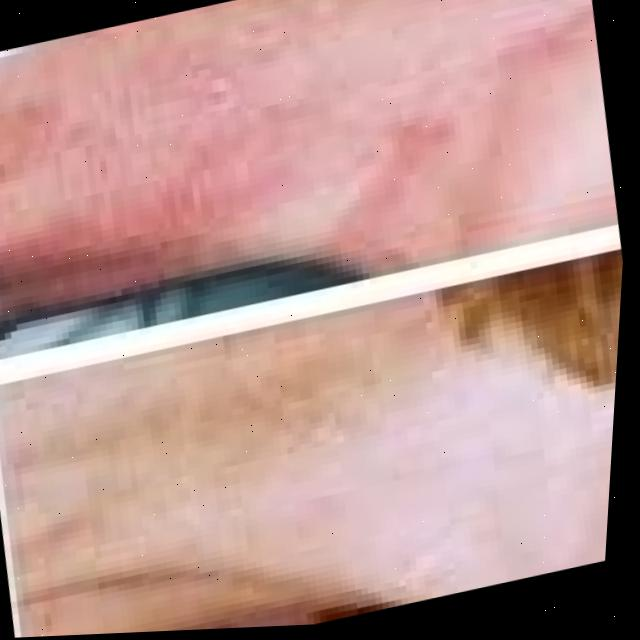Melasma: (0, 328, 422, 578)
